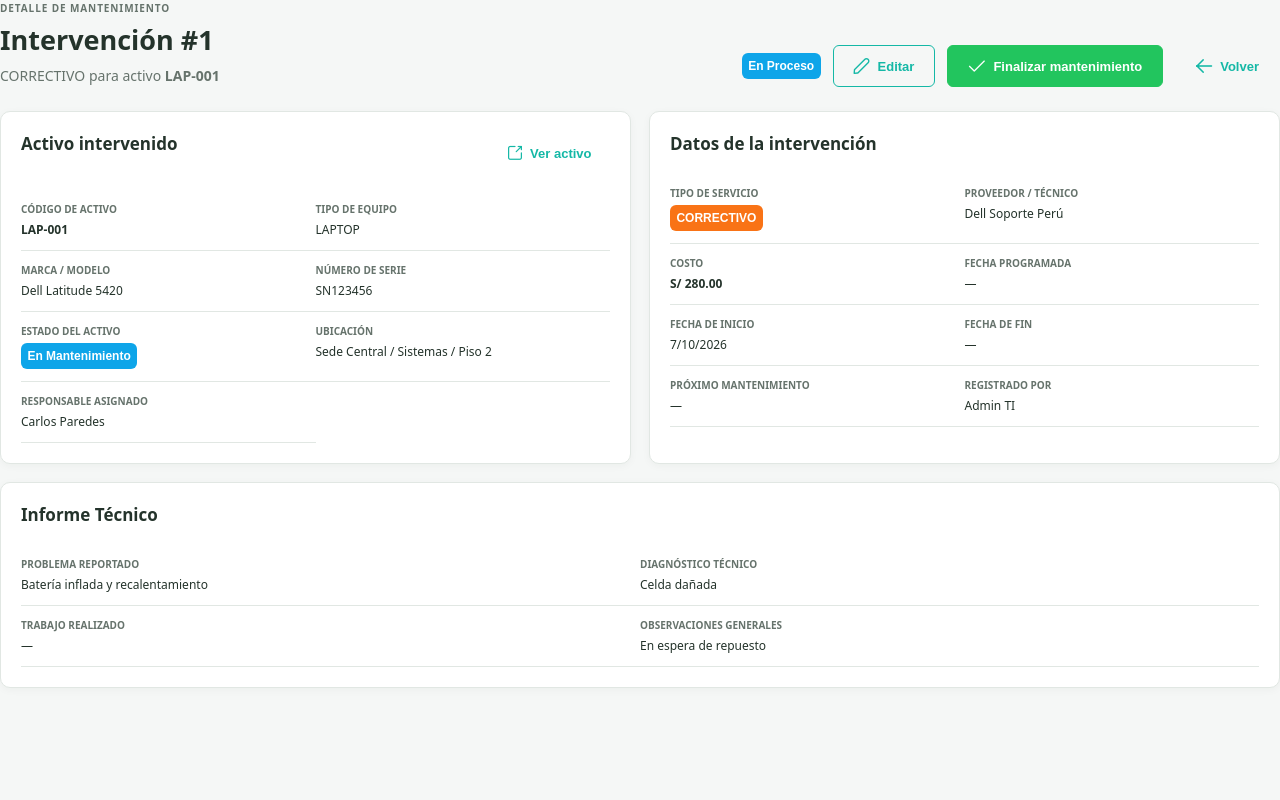
Test case: Módulo de Mantenimientos (Frontend) › abre el diálogo de finalización al presionar Finalizar mantenimiento
The image size is (1280, 800).
Step 1. Click the button "Finalizar mantenimiento" → [1055, 66], box x1=947 y1=45 x2=1163 y2=87
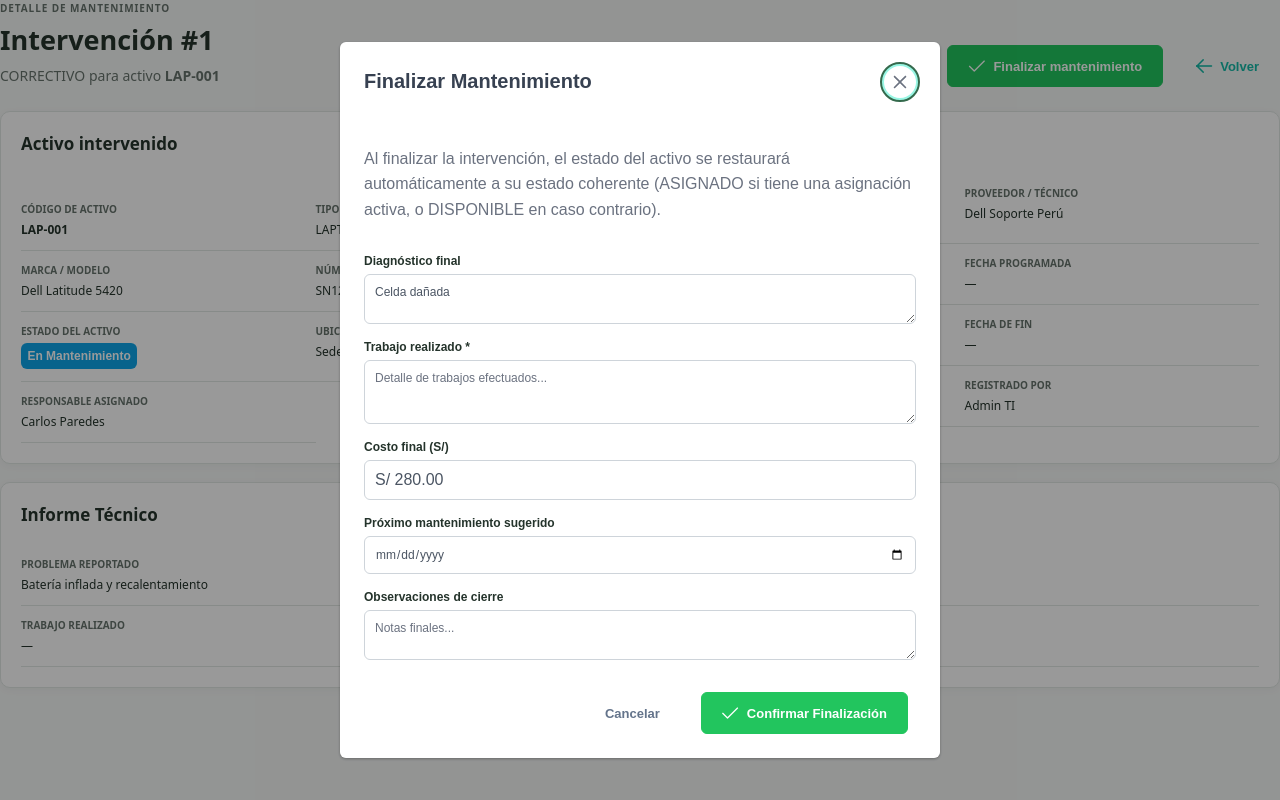
Expected: the dialog is shown, x1=340 y1=42 x2=940 y2=758
Expected: the text box labelled "Trabajo realizado *" is shown, x1=364 y1=360 x2=916 y2=424
Expected: the button "Confirmar Finalización" is shown, x1=701 y1=692 x2=908 y2=734
